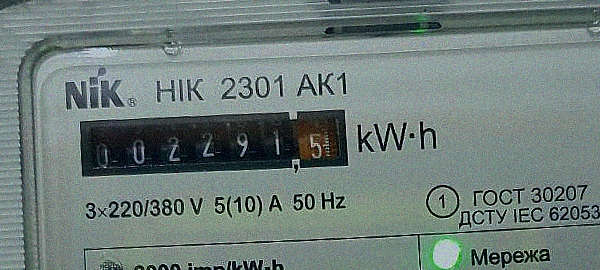0: (91, 138, 111, 168), (129, 135, 147, 165)
1: (268, 125, 284, 160)
2: (164, 133, 182, 163), (199, 129, 215, 158)
5: (306, 129, 324, 160)
9: (233, 128, 251, 159)
screen: (72, 96, 354, 191)
